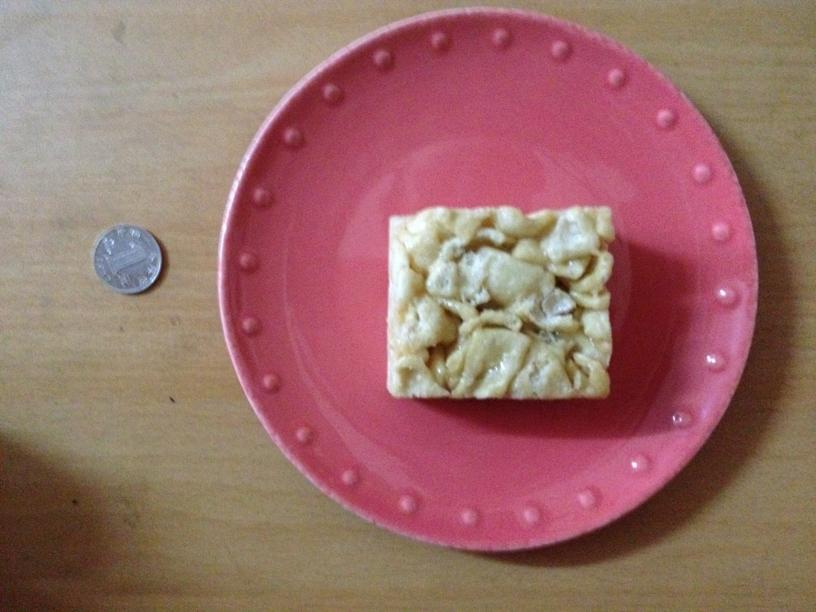coin: (89, 225, 163, 293)
sachima: (376, 204, 611, 401)
